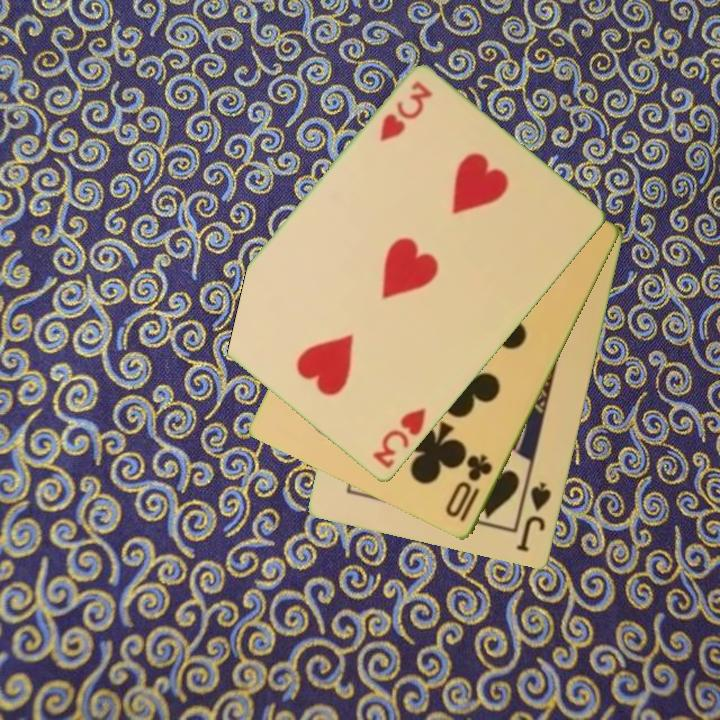10c: (442, 451, 496, 525)
3h: (369, 404, 430, 472), (376, 78, 436, 145)
Js: (513, 479, 555, 556)
